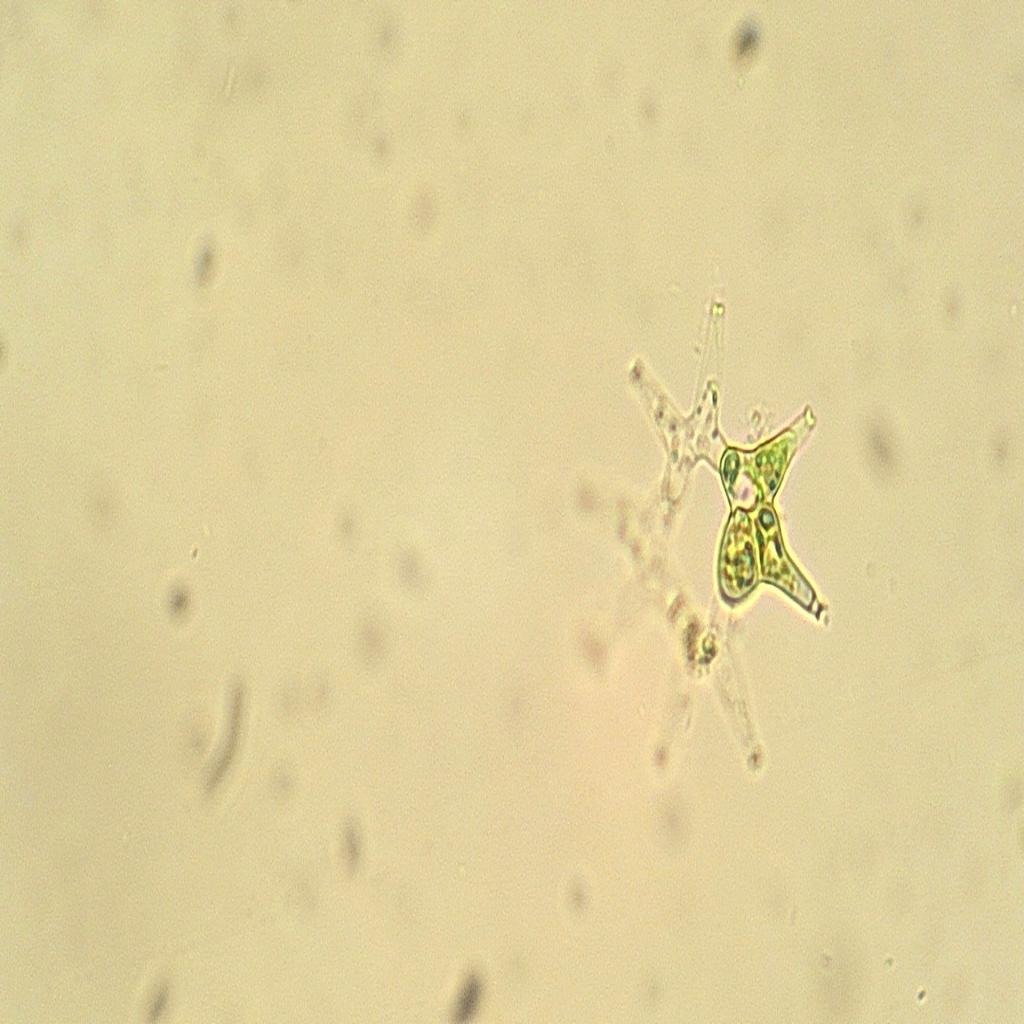Pediastrum_75TH: (564, 279, 845, 798)
